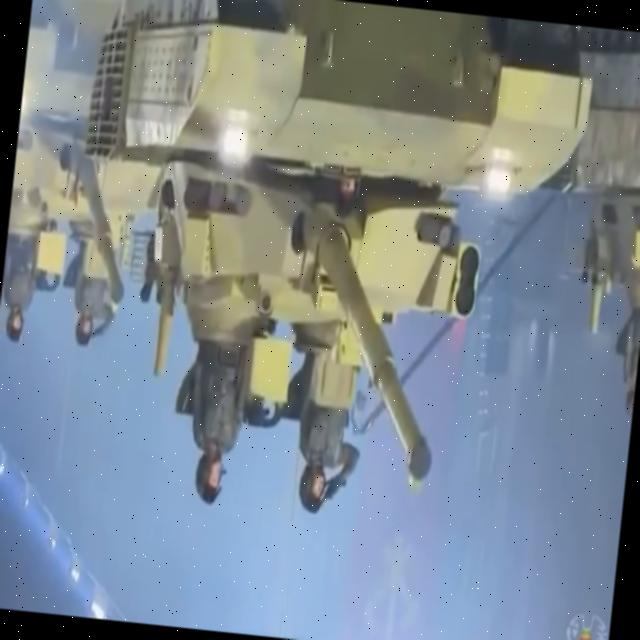north tank: (42, 0, 618, 552), (0, 0, 164, 323), (513, 22, 640, 353)
